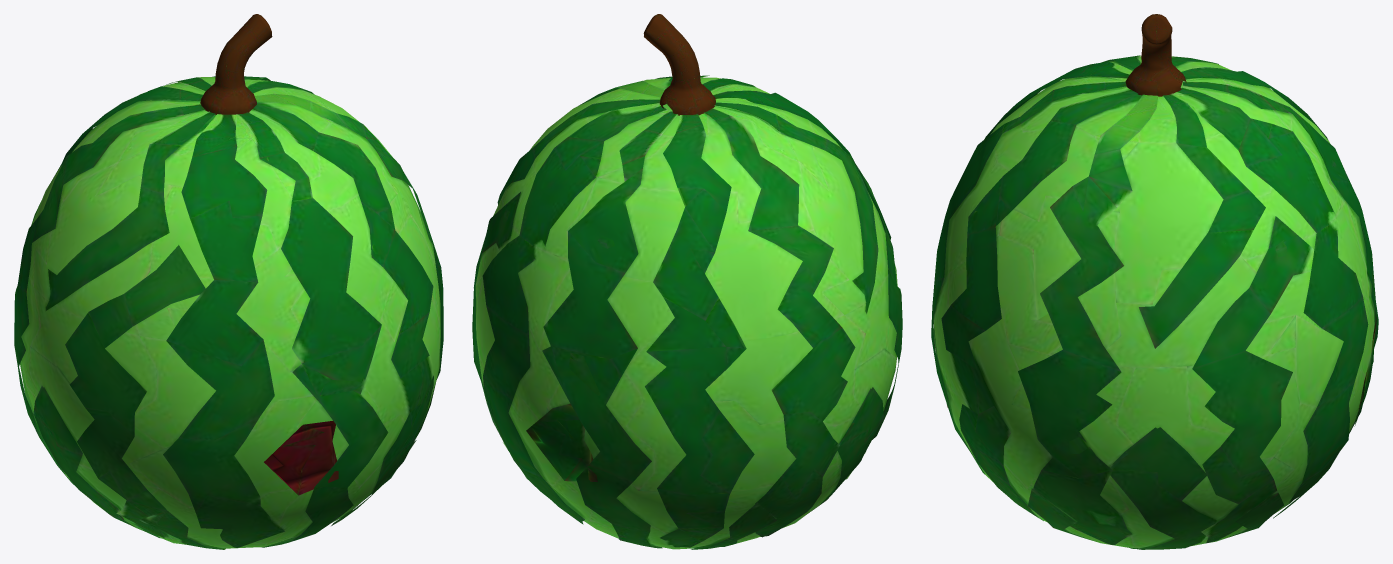
Rendered from elite_watermelon.glb.
3 renders of one model, left to right at view 1: azimuth 30°, elevation 25°; view 2: azimuth 150°, elevation 25°; view 3: azimuth 270°, elevation 25°, orthographic. The views are drawn at different scales.
Parts seen in each view (by area): view 1: geometry_0; view 2: geometry_0; view 3: geometry_0.
Part boxes in pixels (x1=…): geometry_0: x1=14, y1=14, x2=443, y2=549; geometry_0: x1=472, y1=14, x2=902, y2=549; geometry_0: x1=931, y1=14, x2=1378, y2=549.
Bounding box in the file's own units: 0.7417 × 0.9512 × 0.7446.
1 material, 1 textured.
